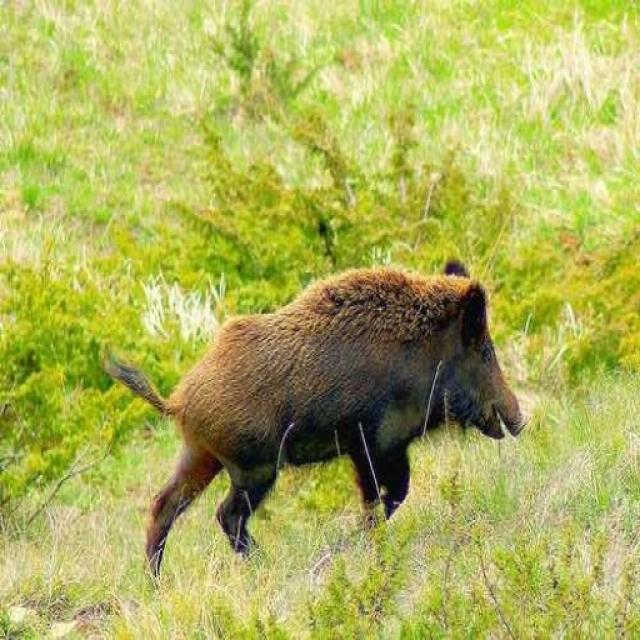pig: (94, 236, 565, 546)
